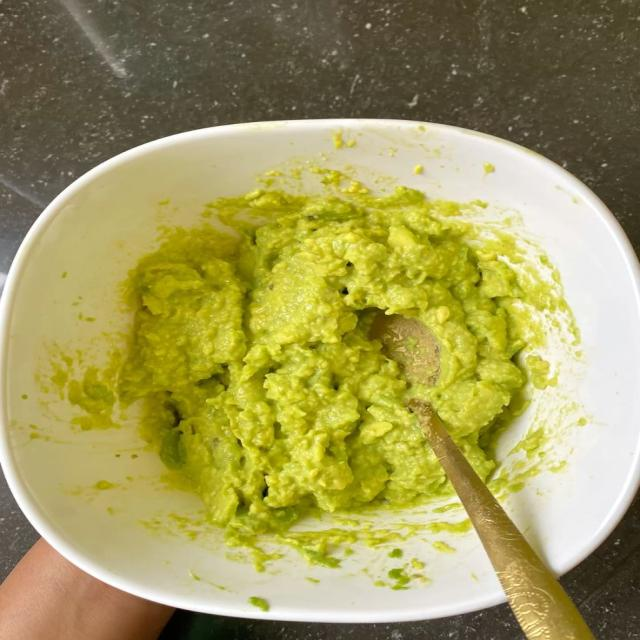avocado: (119, 185, 541, 541)
